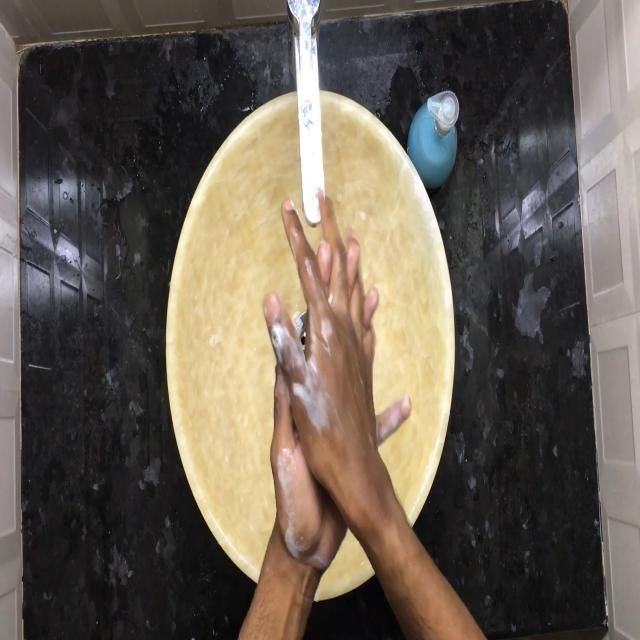step_3: (258, 176, 399, 561)
